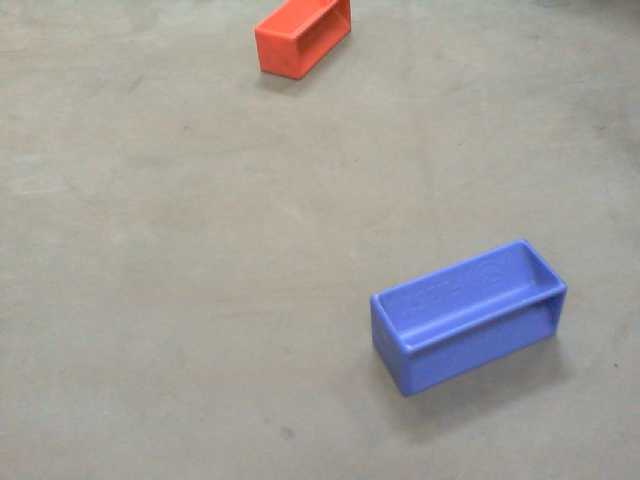BlueSample: (368, 236, 570, 401)
RedSample: (251, 1, 356, 80)
